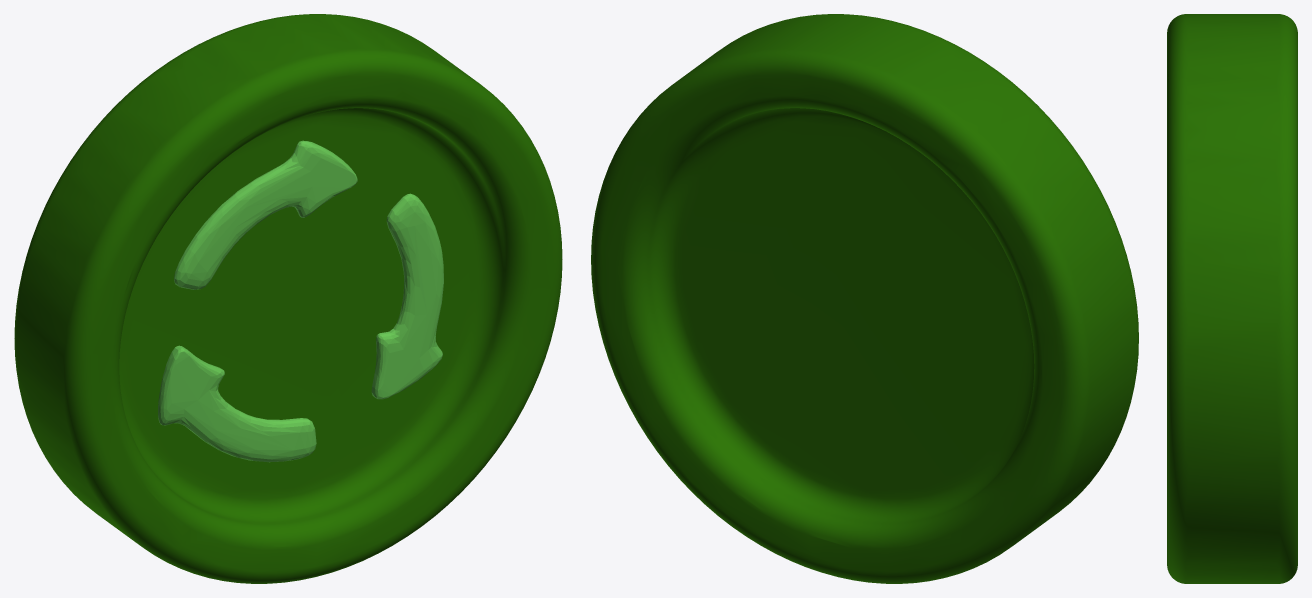
Rendered from reuse.glb.
3 views of the same model, side by side, from view 1: azimuth 30°, elevation 25°; view 2: azimuth 150°, elevation 25°; view 3: azimuth 270°, elevation 25° (orthographic).
Visible parts, largest first — view 1: Cylinder.001, Plane.022; view 2: Cylinder.001; view 3: Cylinder.001.
Part boxes in pixels (x1=…): Cylinder.001: x1=14, y1=14, x2=562, y2=583; Plane.022: x1=158, y1=140, x2=443, y2=462; Cylinder.001: x1=591, y1=14, x2=1138, y2=583; Cylinder.001: x1=1167, y1=14, x2=1297, y2=583.
Size of the model in its own units: 0.2216 by 0.2216 by 0.0509.
